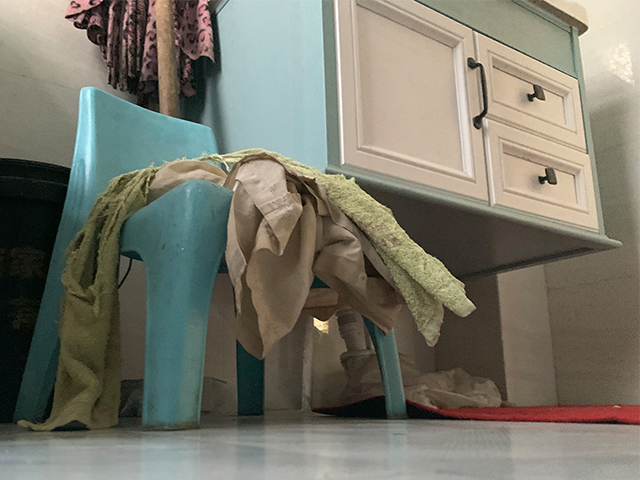carpet: (310, 394, 640, 427)
stool: (13, 85, 408, 434)
